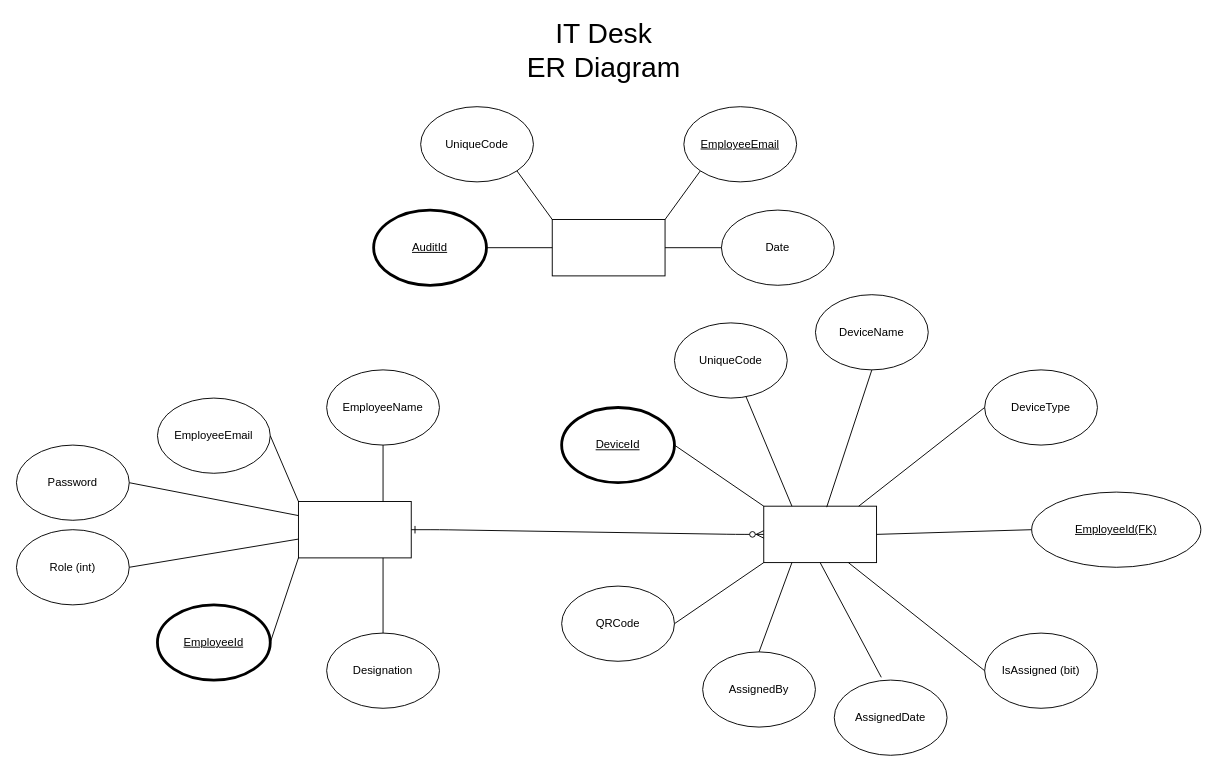
Image size: 1217x772. Some labels were removed from this diagram. Here are the shapes that lost their labels. From the top down, the centre of each, then its label:
(608,247): AuditTrail
(354,529): EmployeeInfo
(820,534): DeviceInfo
